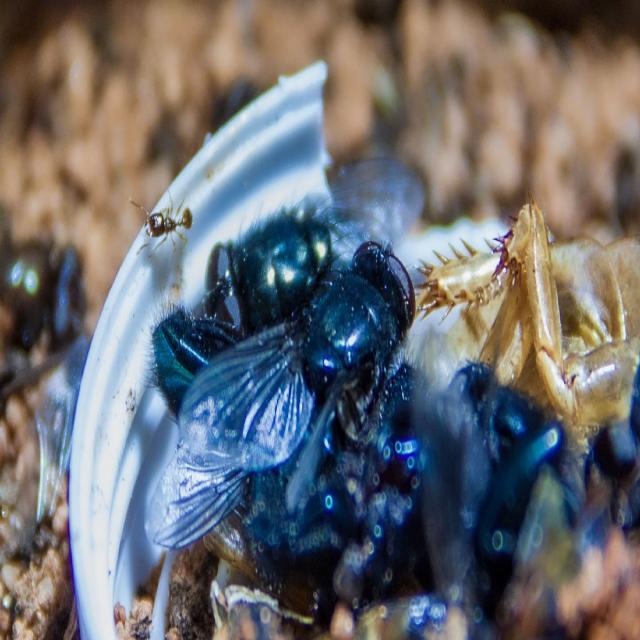Minor: (128, 190, 193, 252)
